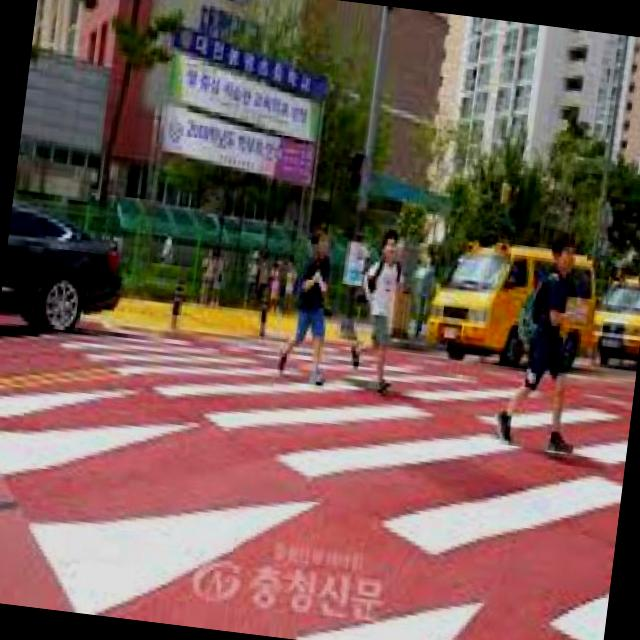Person: (496, 222, 596, 458), (278, 222, 342, 386), (347, 228, 410, 394)
